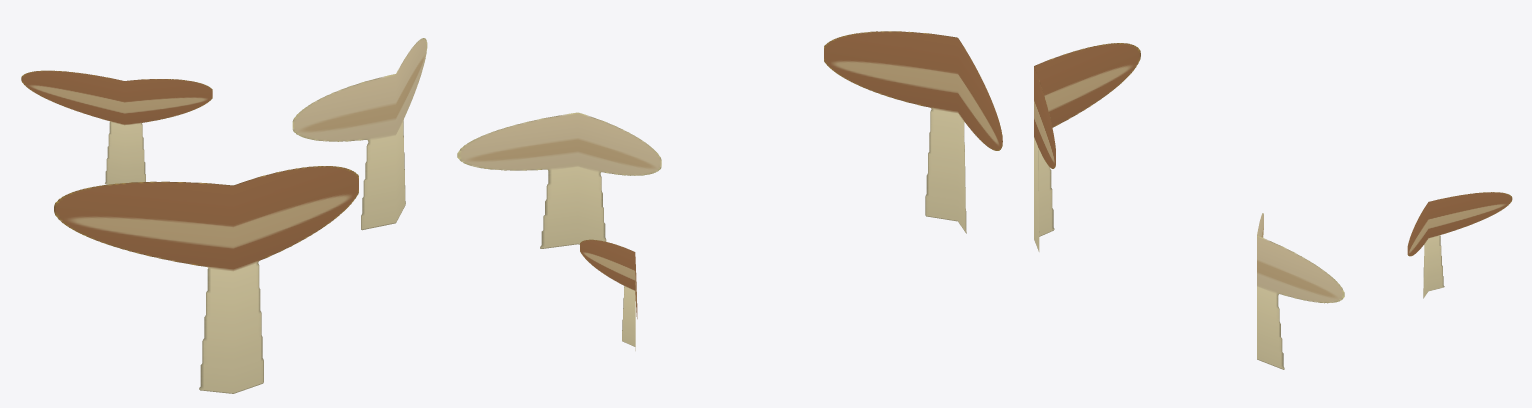
File: Furn_Mushroom_Cluster.fbx
3 views of the same model, side by side, from view 1: azimuth 30°, elevation 25°; view 2: azimuth 150°, elevation 25°; view 3: azimuth 270°, elevation 25° (orthographic). The views are drawn at different scales.
Parts seen in each view (by area): view 1: Furn_Mushroom_Cluster; view 2: Furn_Mushroom_Cluster; view 3: Furn_Mushroom_Cluster.
Part boxes in pixels (bbox=[...]): Furn_Mushroom_Cluster: bbox=[21, 38, 427, 393]; Furn_Mushroom_Cluster: bbox=[457, 31, 1002, 350]; Furn_Mushroom_Cluster: bbox=[1034, 43, 1512, 369].
Bounding box in the file's own units: 0.3 × 0.12 × 0.3.
Materials: 1 (1 with a texture image).
